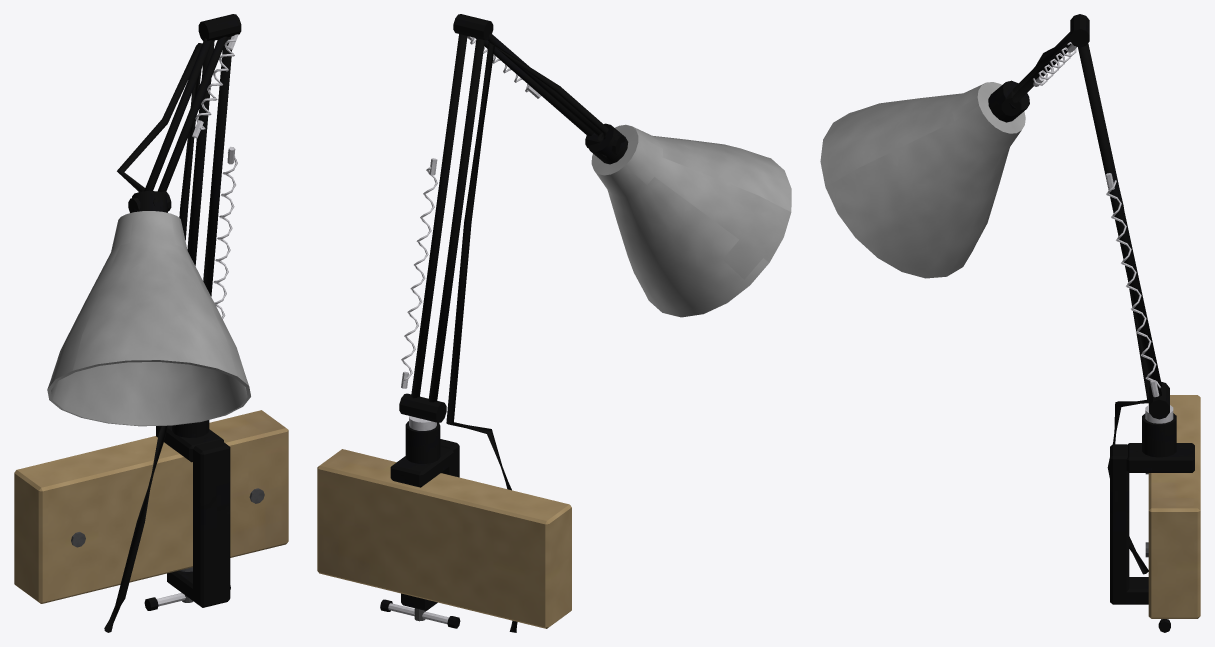
File: task-lamp.glb
3 renders of one model, left to right at view 1: azimuth 30°, elevation 25°; view 2: azimuth 150°, elevation 25°; view 3: azimuth 270°, elevation 25°, orthographic. The views are drawn at different scales.
Visible parts, largest first — view 1: task_lamp; view 2: task_lamp; view 3: task_lamp.
Boxes of the visible parts, left/top/right/bottom form: task_lamp: left=14, top=14, right=288, bottom=632; task_lamp: left=317, top=14, right=791, bottom=632; task_lamp: left=820, top=14, right=1200, bottom=632.
Size of the model in its own units: 0.2848 by 0.4736 by 0.2775.
Materials: 2 (1 with a texture image).
